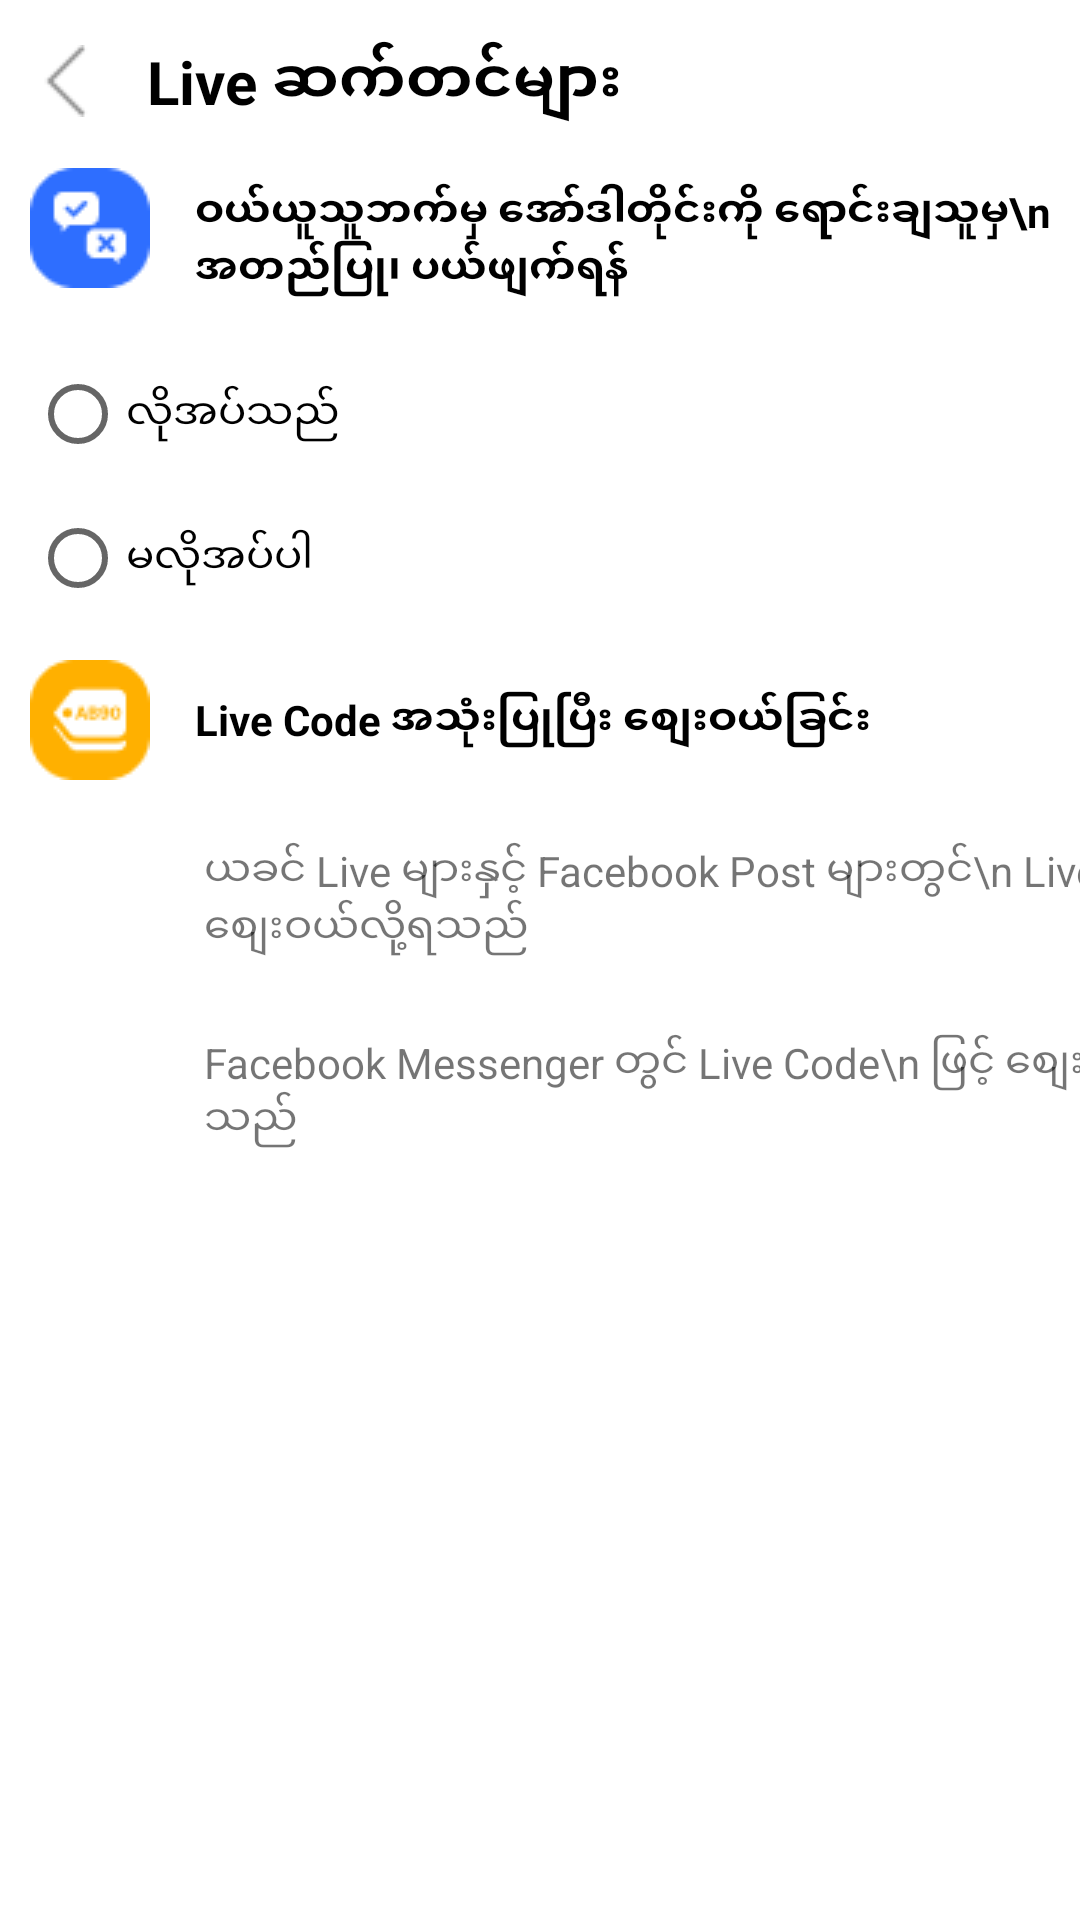

Point at icon controls on the screen. Image size 1080px×1920px, points as [x,y].
back: [66,81]
confirm cancel: [90,228]
